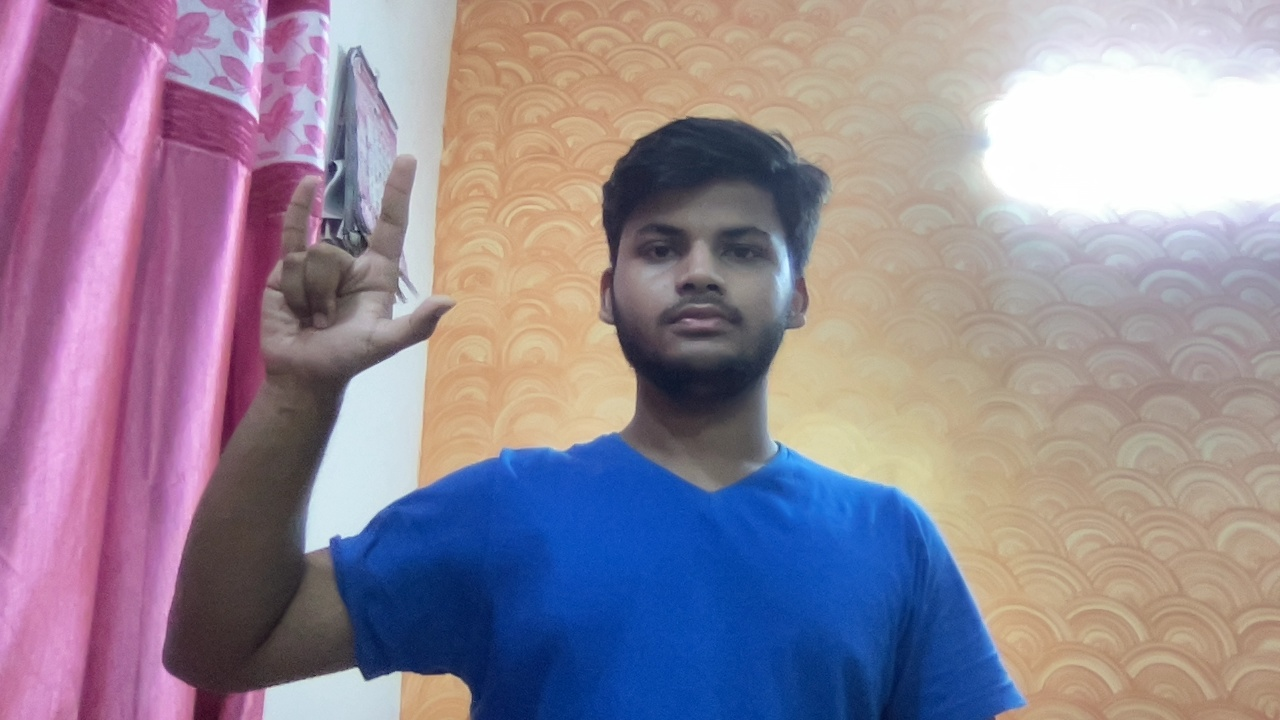iloveyou: (236, 133, 472, 406)
